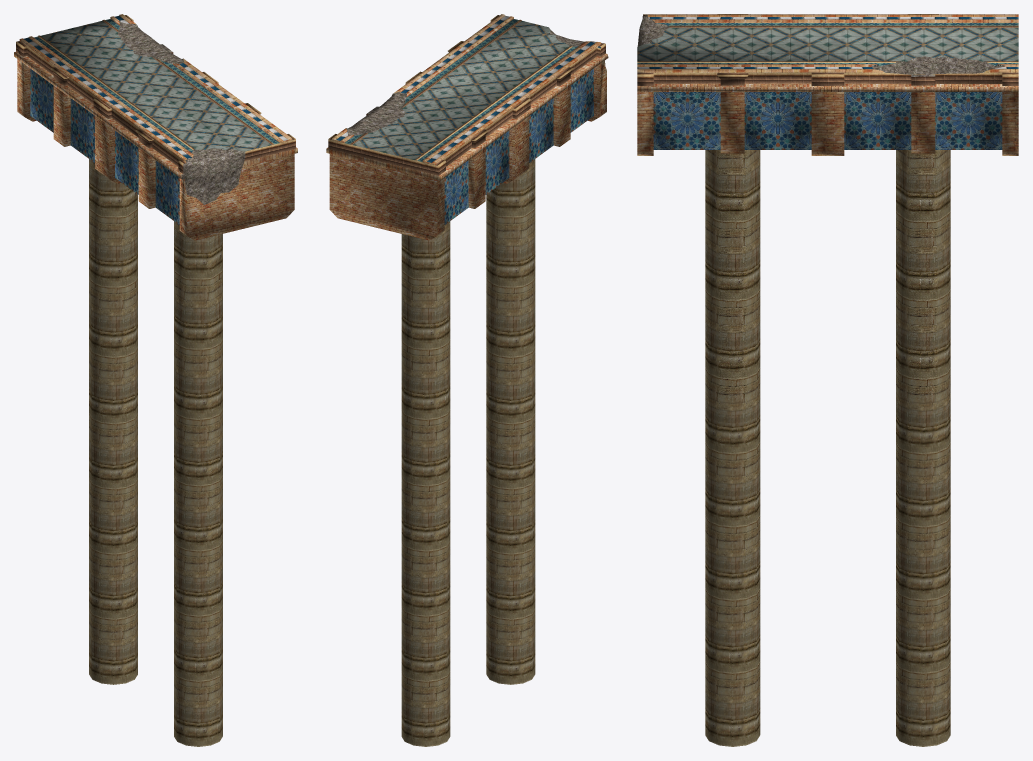
File: OBJBridgeTwoLegs.gltf
The picture shows the model from 3 angles, left to right: view 1: azimuth 30°, elevation 25°; view 2: azimuth 150°, elevation 25°; view 3: azimuth 270°, elevation 25°; orthographic projection. The views are drawn at different scales.
Visible parts, largest first — view 1: BridgeTwoLegs; view 2: BridgeTwoLegs; view 3: BridgeTwoLegs.
Part boxes in pixels (x1=…): BridgeTwoLegs: x1=14, y1=14, x2=297, y2=746; BridgeTwoLegs: x1=326, y1=14, x2=608, y2=746; BridgeTwoLegs: x1=637, y1=14, x2=1018, y2=746.
Bounding box in the file's own units: 7.77 × 40.12 × 20.
5 materials, 5 textured.
